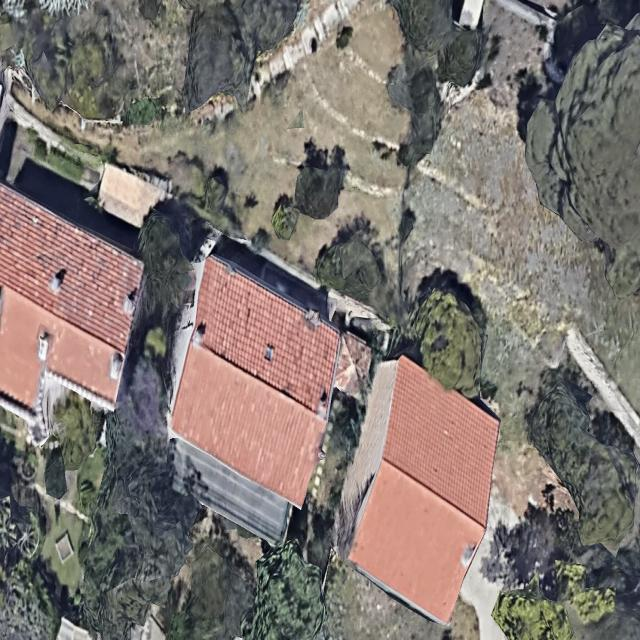maison: (136, 251, 354, 549), (309, 349, 528, 628), (0, 181, 143, 443)
